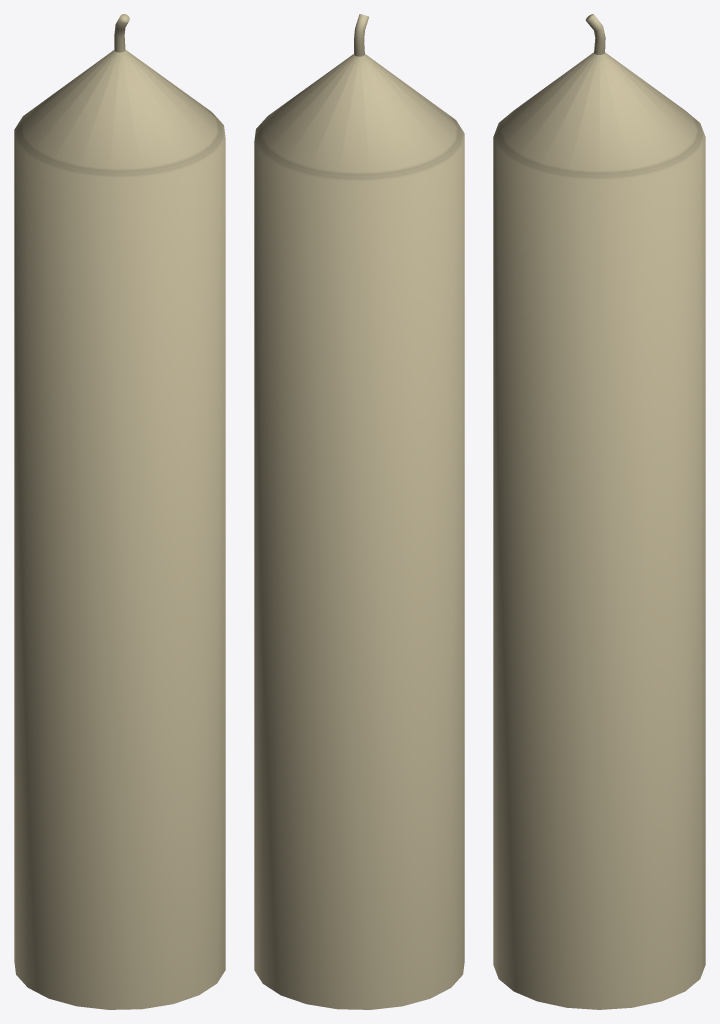
The model's file is candle_02.fbx.
The picture shows the model from 3 angles, left to right: view 1: azimuth 30°, elevation 25°; view 2: azimuth 150°, elevation 25°; view 3: azimuth 270°, elevation 25°; orthographic projection.
Visible parts, largest first — view 1: candle_02; view 2: candle_02; view 3: candle_02.
Part boxes in pixels (<box>): candle_02: <box>14,14,225,1009</box>; candle_02: <box>254,14,464,1009</box>; candle_02: <box>493,14,705,1009</box>.
Bounding box in the file's own units: 8.63 × 42.68 × 8.63.
